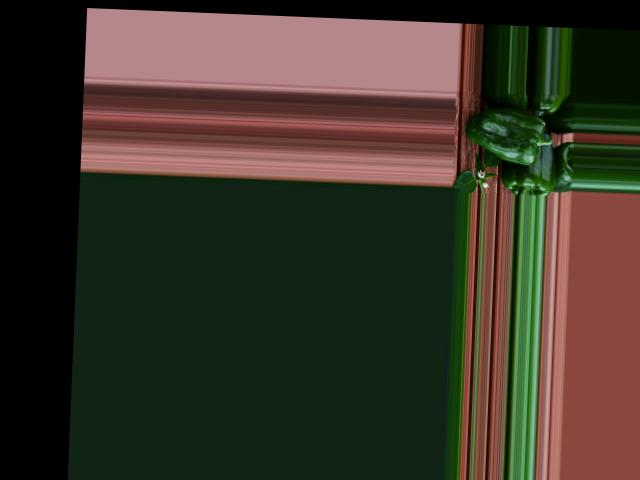bell_pepper: (533, 92, 571, 119)
